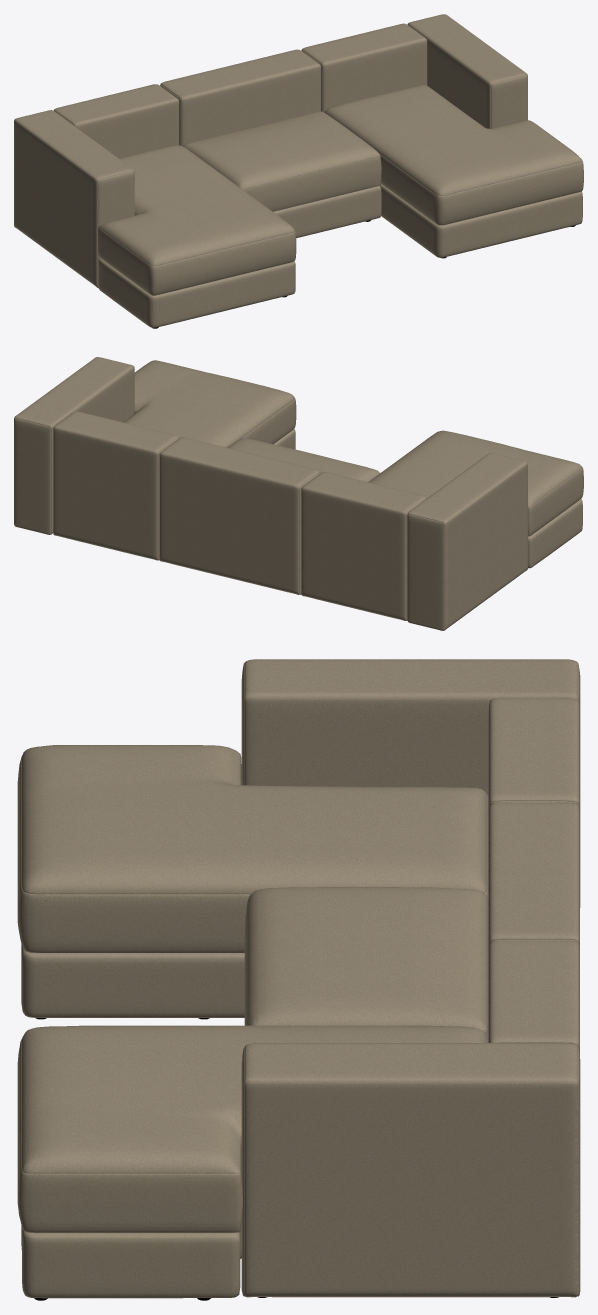
The model's file is 18 - JÄTTEBO 3,5-seat mod sofa w chaise longues - armrests Johanneshovbrown-beige.glb.
3 views of the same model, one above another, from view 1: azimuth 30°, elevation 25°; view 2: azimuth 150°, elevation 25°; view 3: azimuth 270°, elevation 25° (orthographic). The views are drawn at different scales.
Parts seen in each view (by area): view 1: Box169; view 2: Box169; view 3: Box169.
Boxes of the visible parts, box(x1,y1,x2,y2) form: Box169: box(14, 14, 583, 327); Box169: box(14, 357, 583, 630); Box169: box(17, 659, 580, 1298).
Bounding box in the file's own units: 2.86 × 0.712 × 1.61.
Materials: 2 (1 with a texture image).
